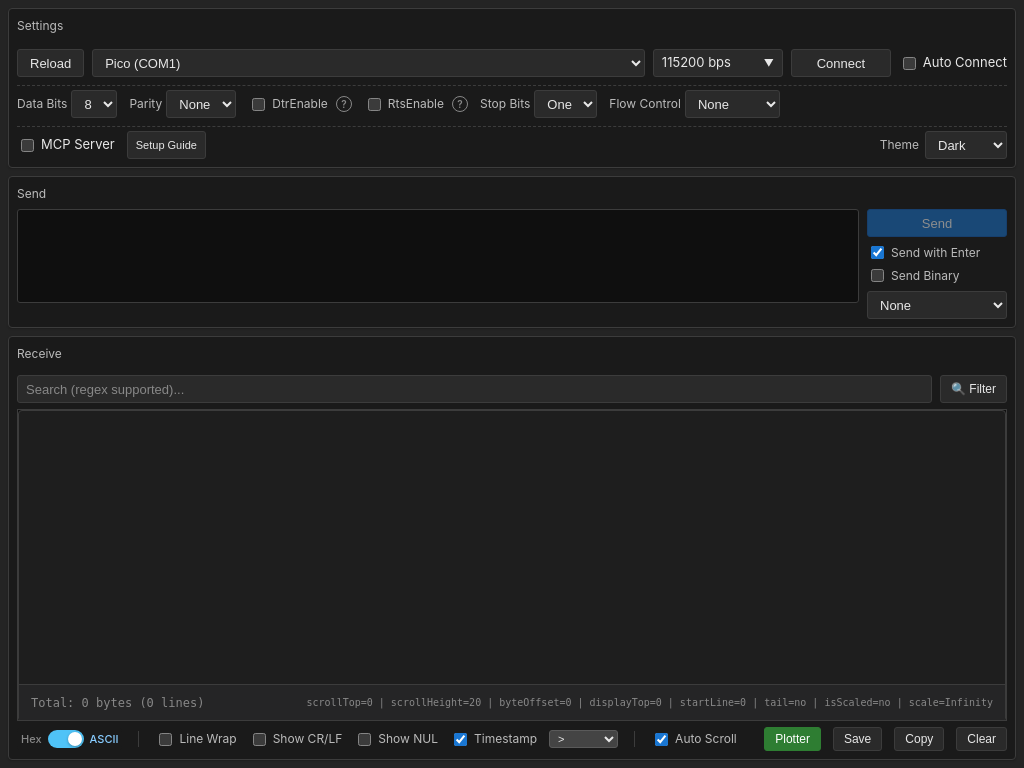
Scenario: App › auto connect › reopens the same capture when the device returns, retrying failed opens
Click the button "Connect": {"x": 841, "y": 63} [791, 49, 891, 77]
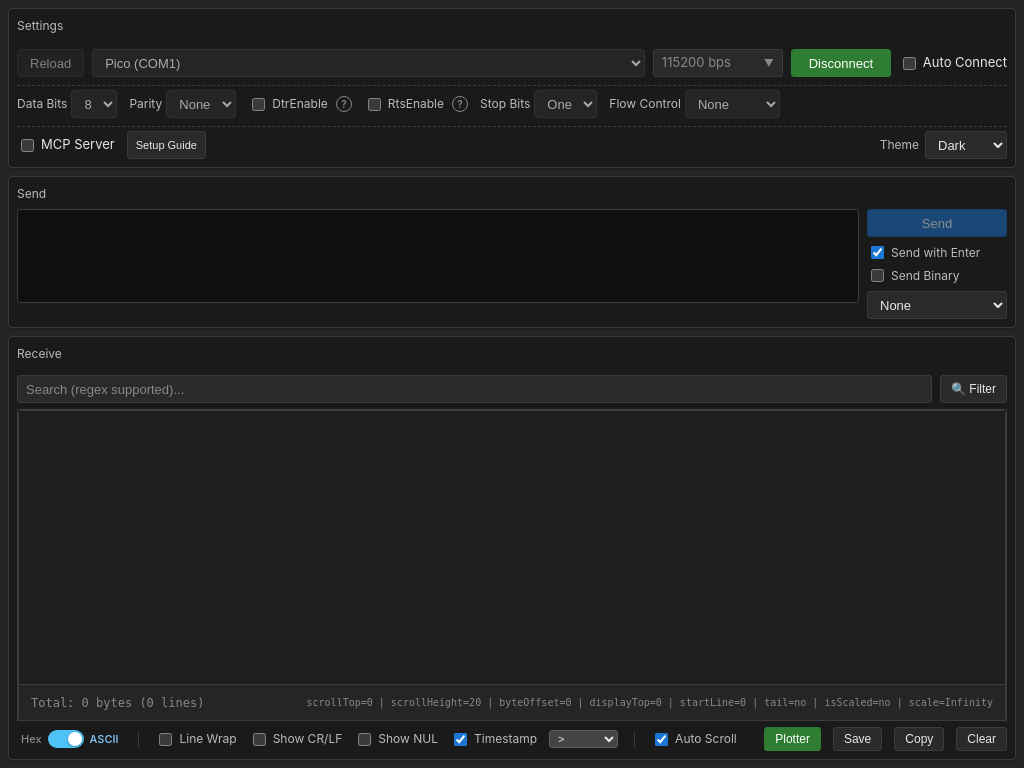
Click the checkbox labelled "Auto Connect": {"x": 909, "y": 63} [903, 56, 916, 70]
Wait 4000 ms
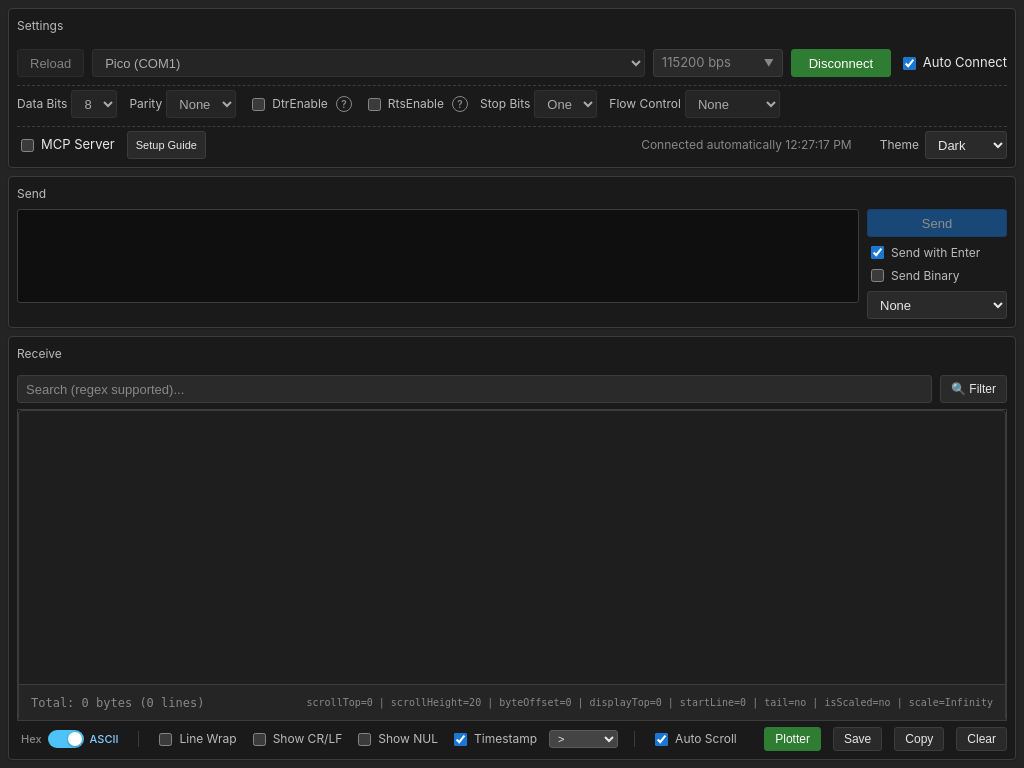
Expected: the button "Disconnect" is shown, [791, 49, 891, 77]
Expected: the message shows "Connected automatically", [641, 137, 785, 152]
